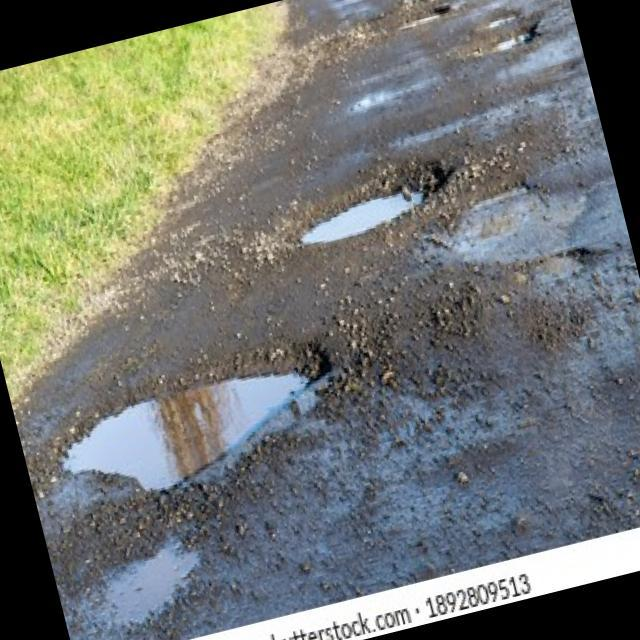Pothole: (35, 332, 348, 516), (405, 166, 596, 286), (274, 160, 456, 256), (77, 527, 217, 639), (444, 20, 546, 68), (384, 1, 454, 36), (472, 8, 518, 34)
